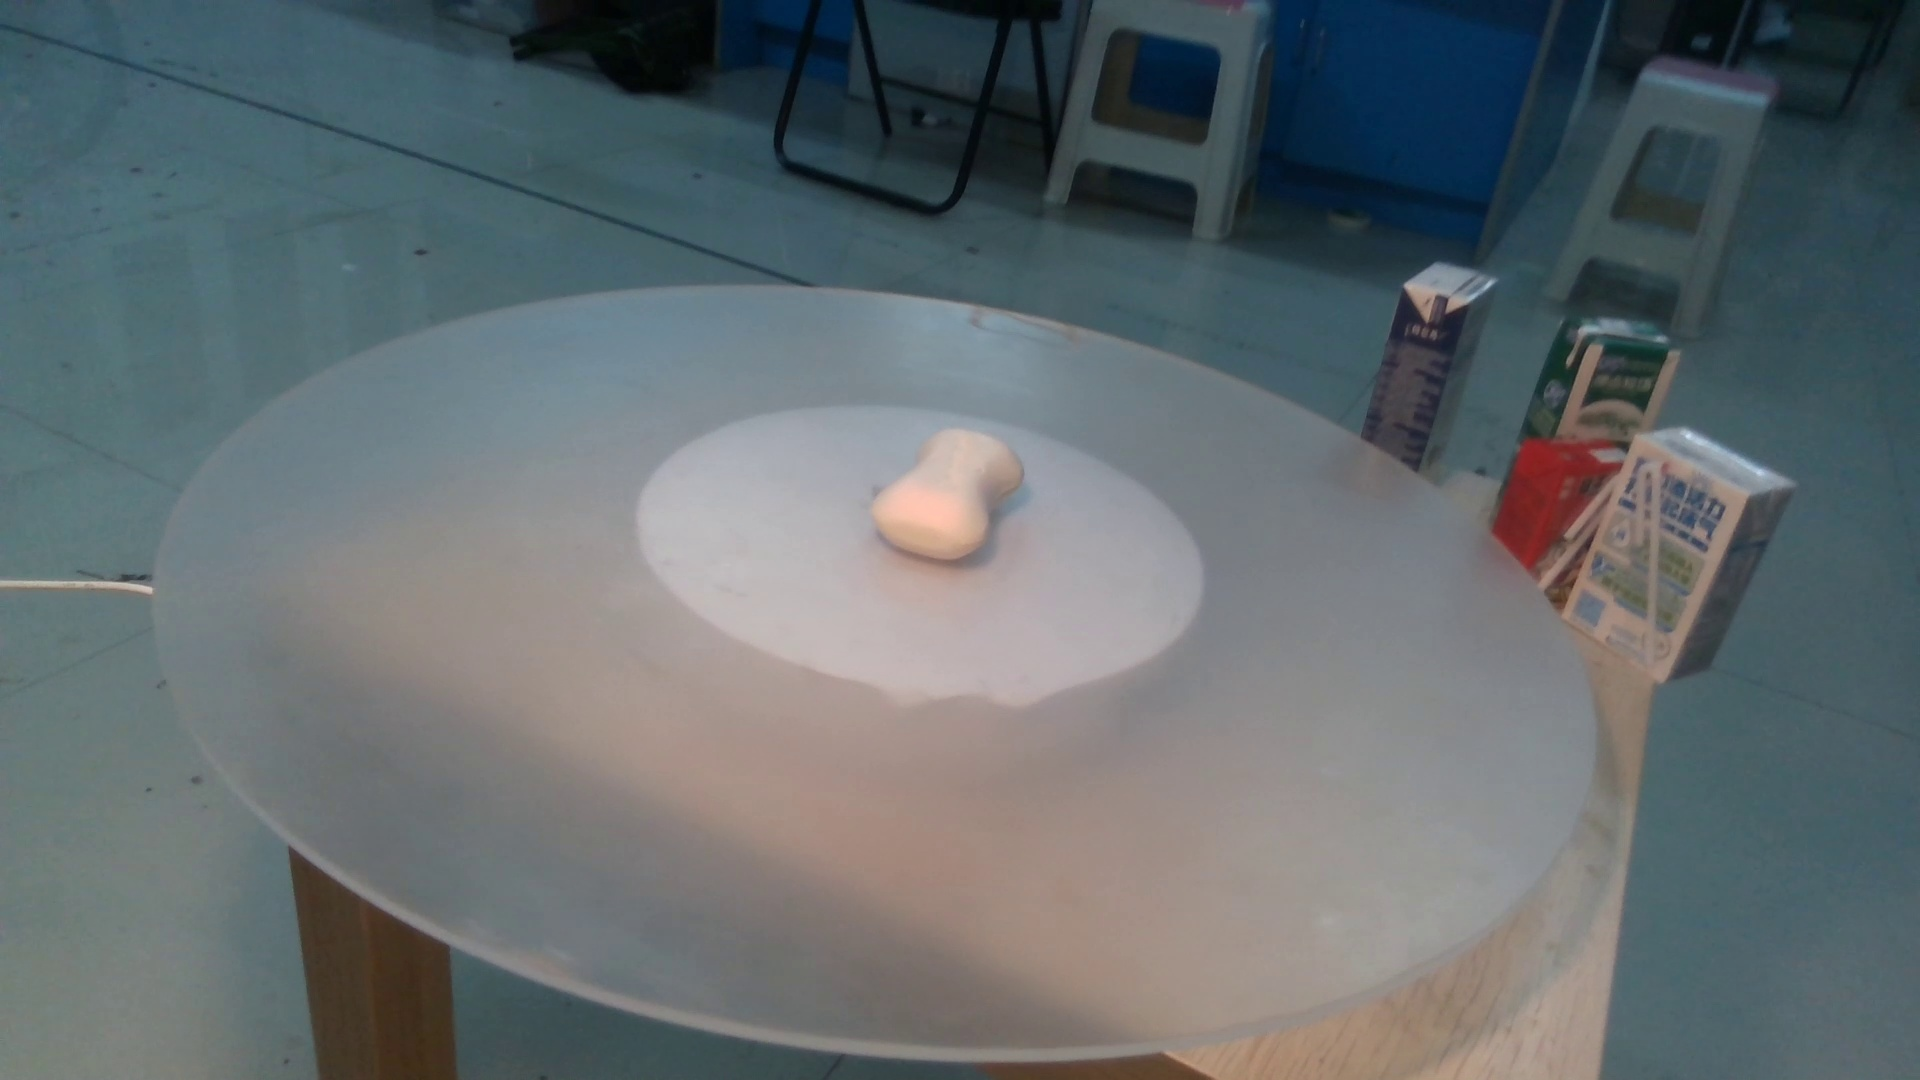CA003_1: (839, 400, 1069, 582)
